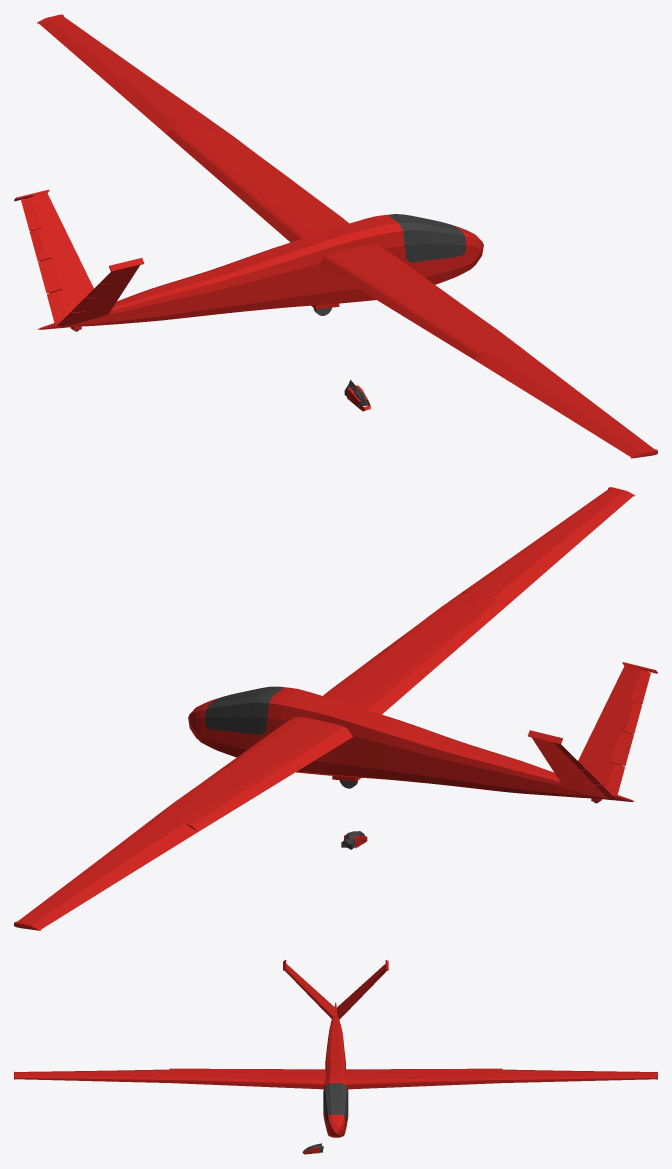
Rendered from samolot3.dae.
3 views of the same model, one above another, from view 1: azimuth 30°, elevation 25°; view 2: azimuth 150°, elevation 25°; view 3: azimuth 270°, elevation 25° (orthographic). The views are drawn at different scales.
Parts seen in each view (by area): view 1: Cube_001; view 2: Cube_001; view 3: Cube_001.
Boxes of the visible parts, <box> form: Cube_001: <box>14,14,657,458</box>; Cube_001: <box>14,487,657,930</box>; Cube_001: <box>14,959,657,1137</box>.
Size of the model in its own units: 15.21 by 35.11 by 7.31.
